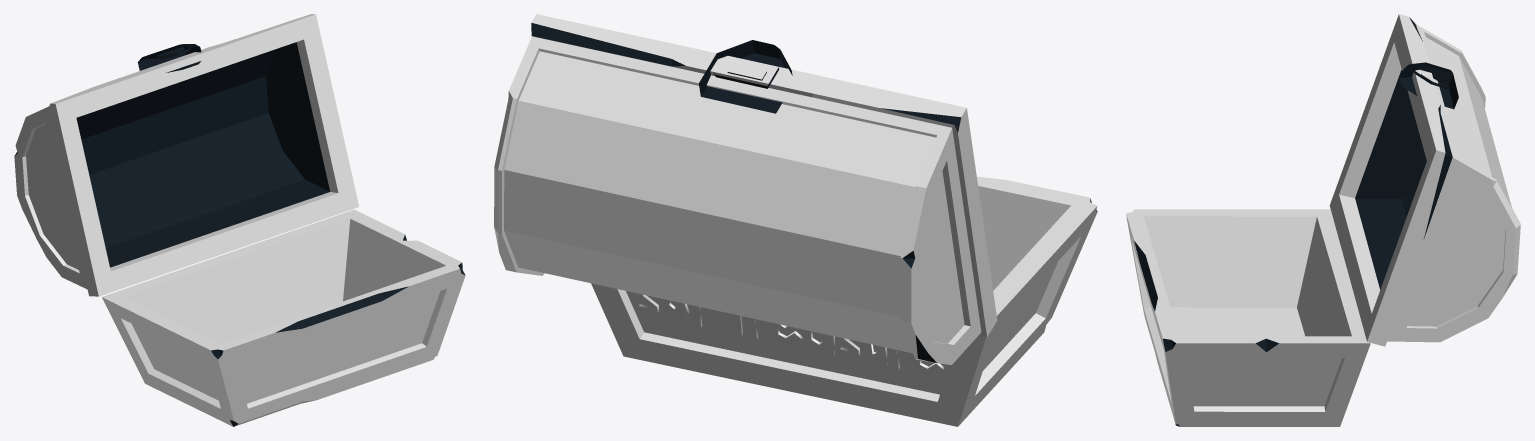
Rendered from white_chest_opened.glb.
3 renders of one model, left to right at view 1: azimuth 30°, elevation 25°; view 2: azimuth 150°, elevation 25°; view 3: azimuth 270°, elevation 25°, orthographic. The views are drawn at different scales.
Visible parts, largest first — view 1: Plane.003; view 2: Plane.003; view 3: Plane.003.
Part boxes in pixels (x1,y1,x2,y2): Plane.003: (14,14,465,426); Plane.003: (494,14,1097,426); Plane.003: (1126,14,1520,426).
Bounding box in the file's own units: 4.91 × 4.26 × 5.09.
2 materials, 1 textured.
